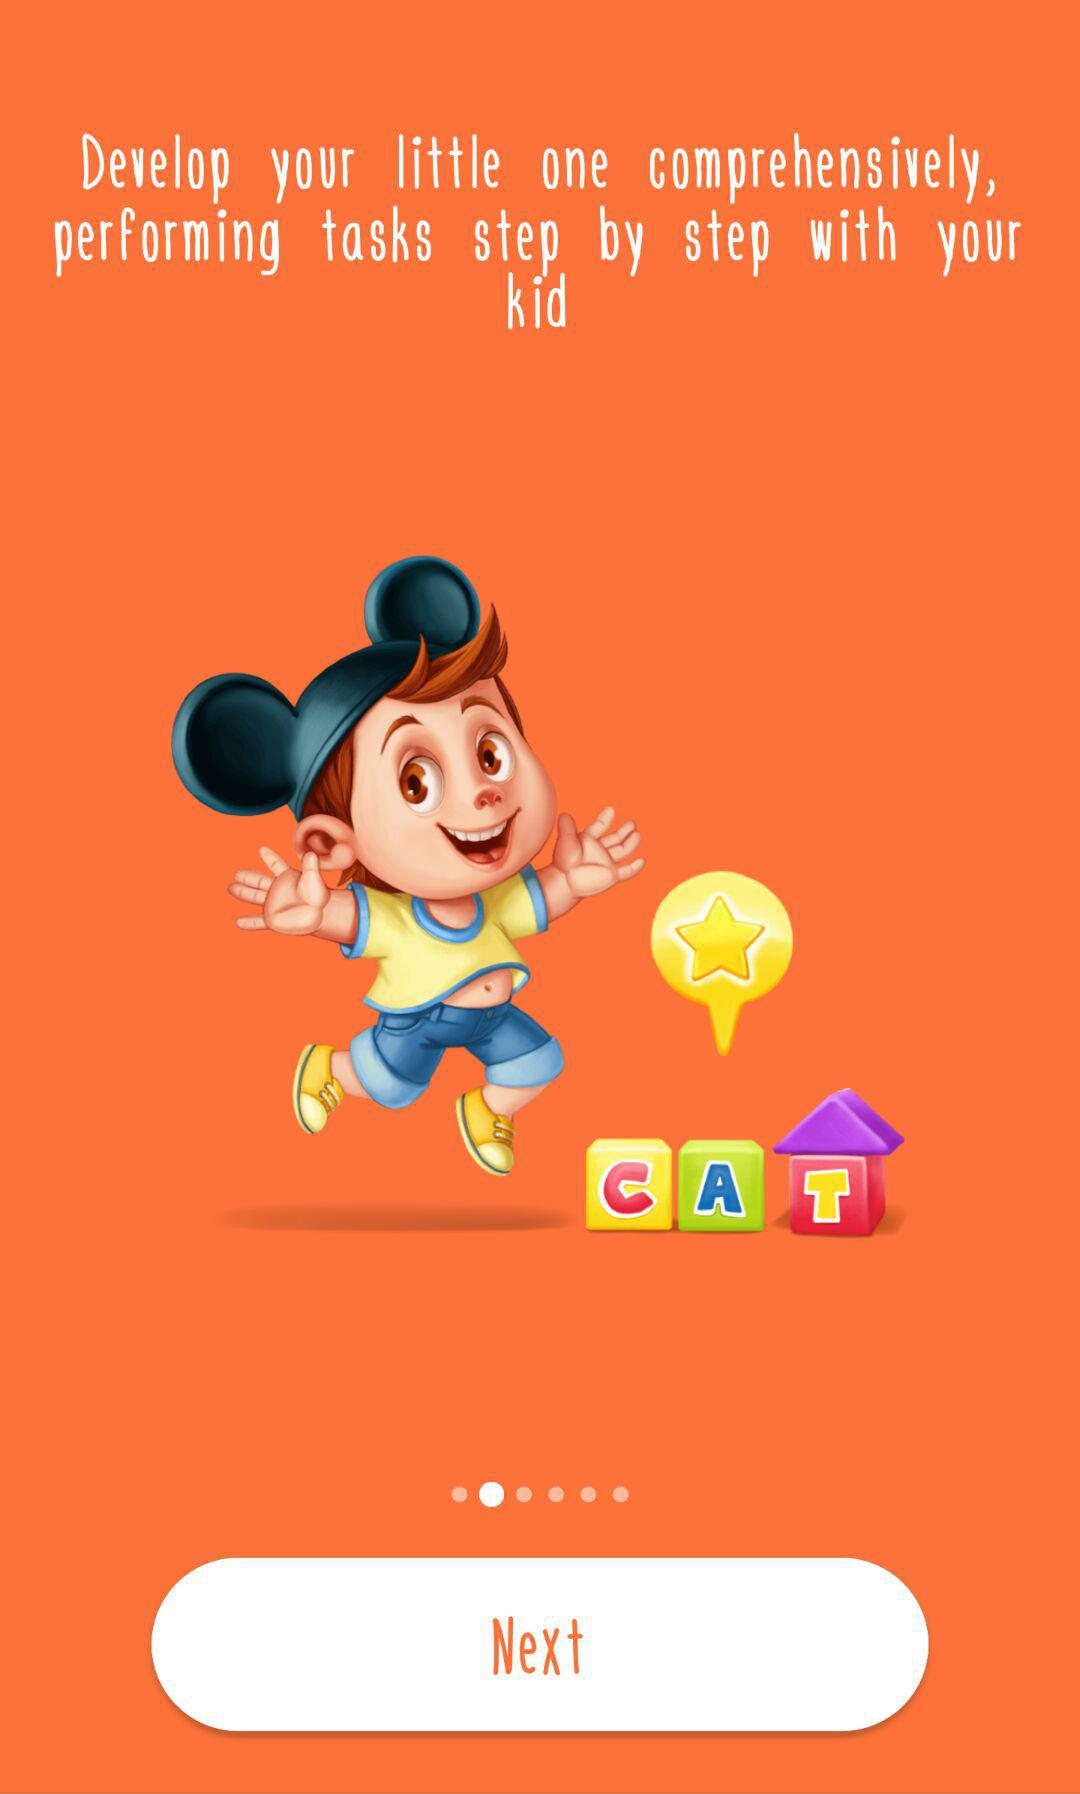Image: (168, 554, 910, 1240)
PageIndicator: (448, 1480, 632, 1511)
Text: (50, 128, 1022, 331)
TextButton: (151, 1557, 930, 1732)
